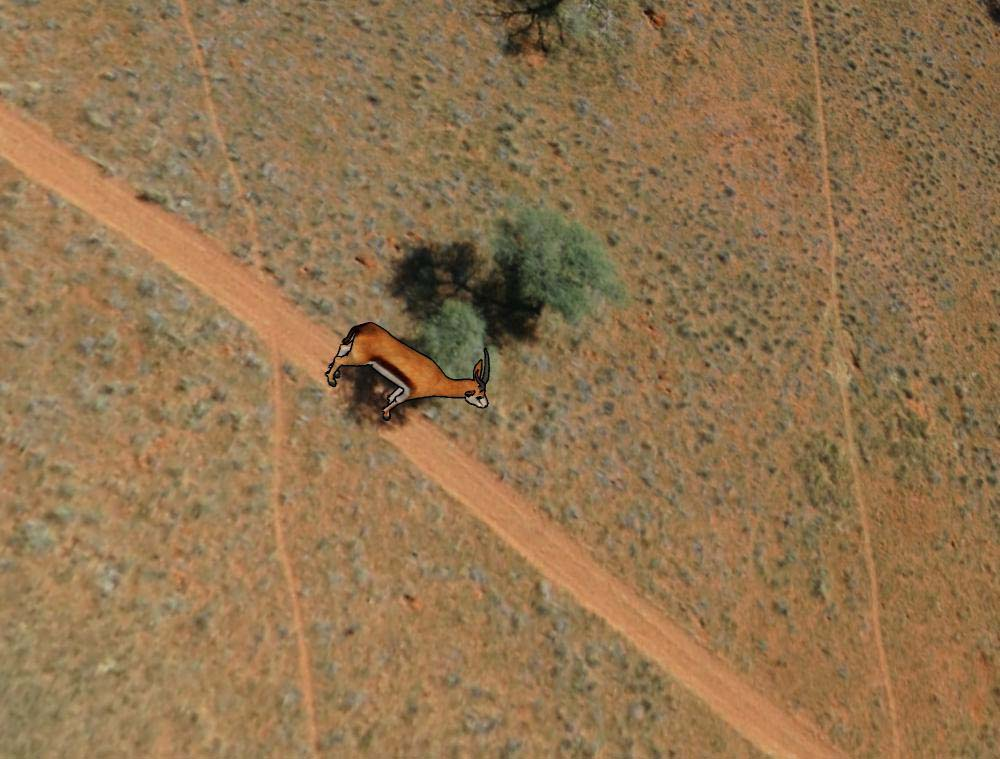springbok: (317, 310, 494, 436)
